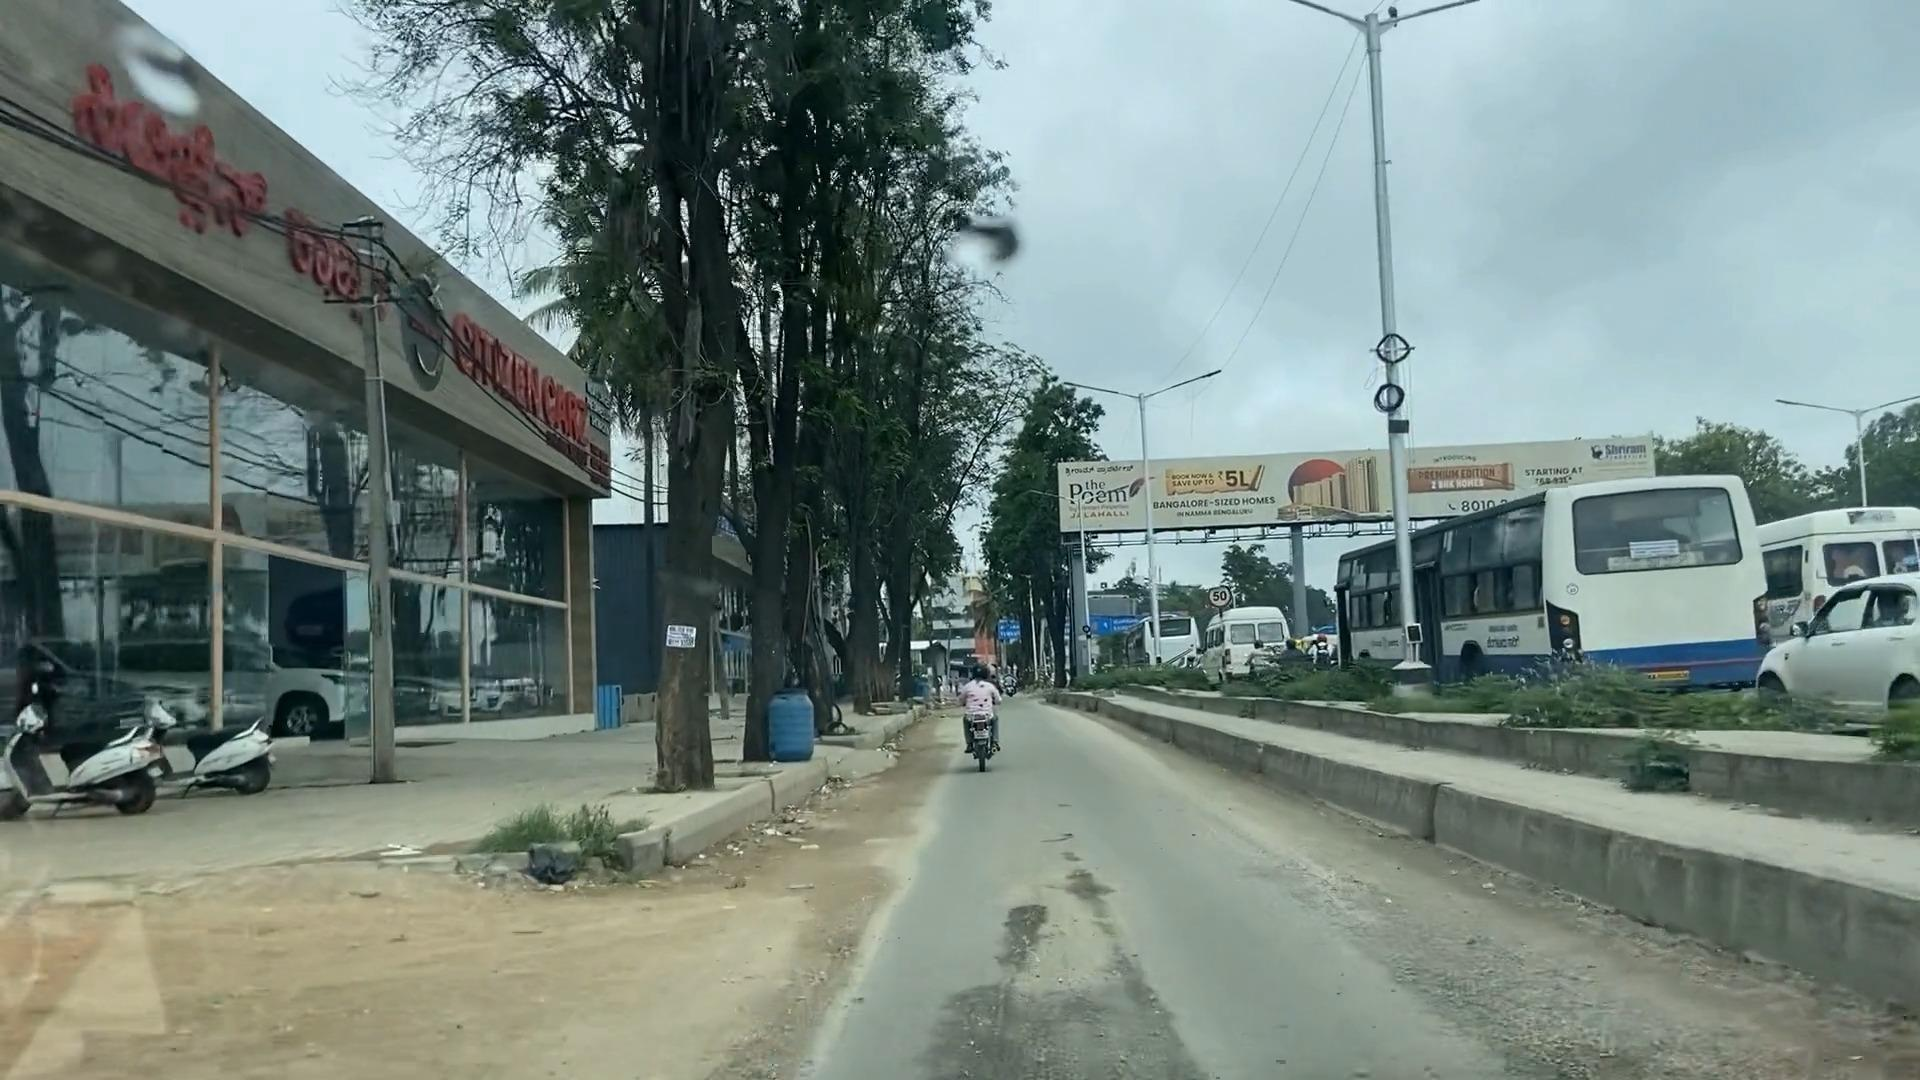RoadDamages: (973, 866, 1164, 1080)
